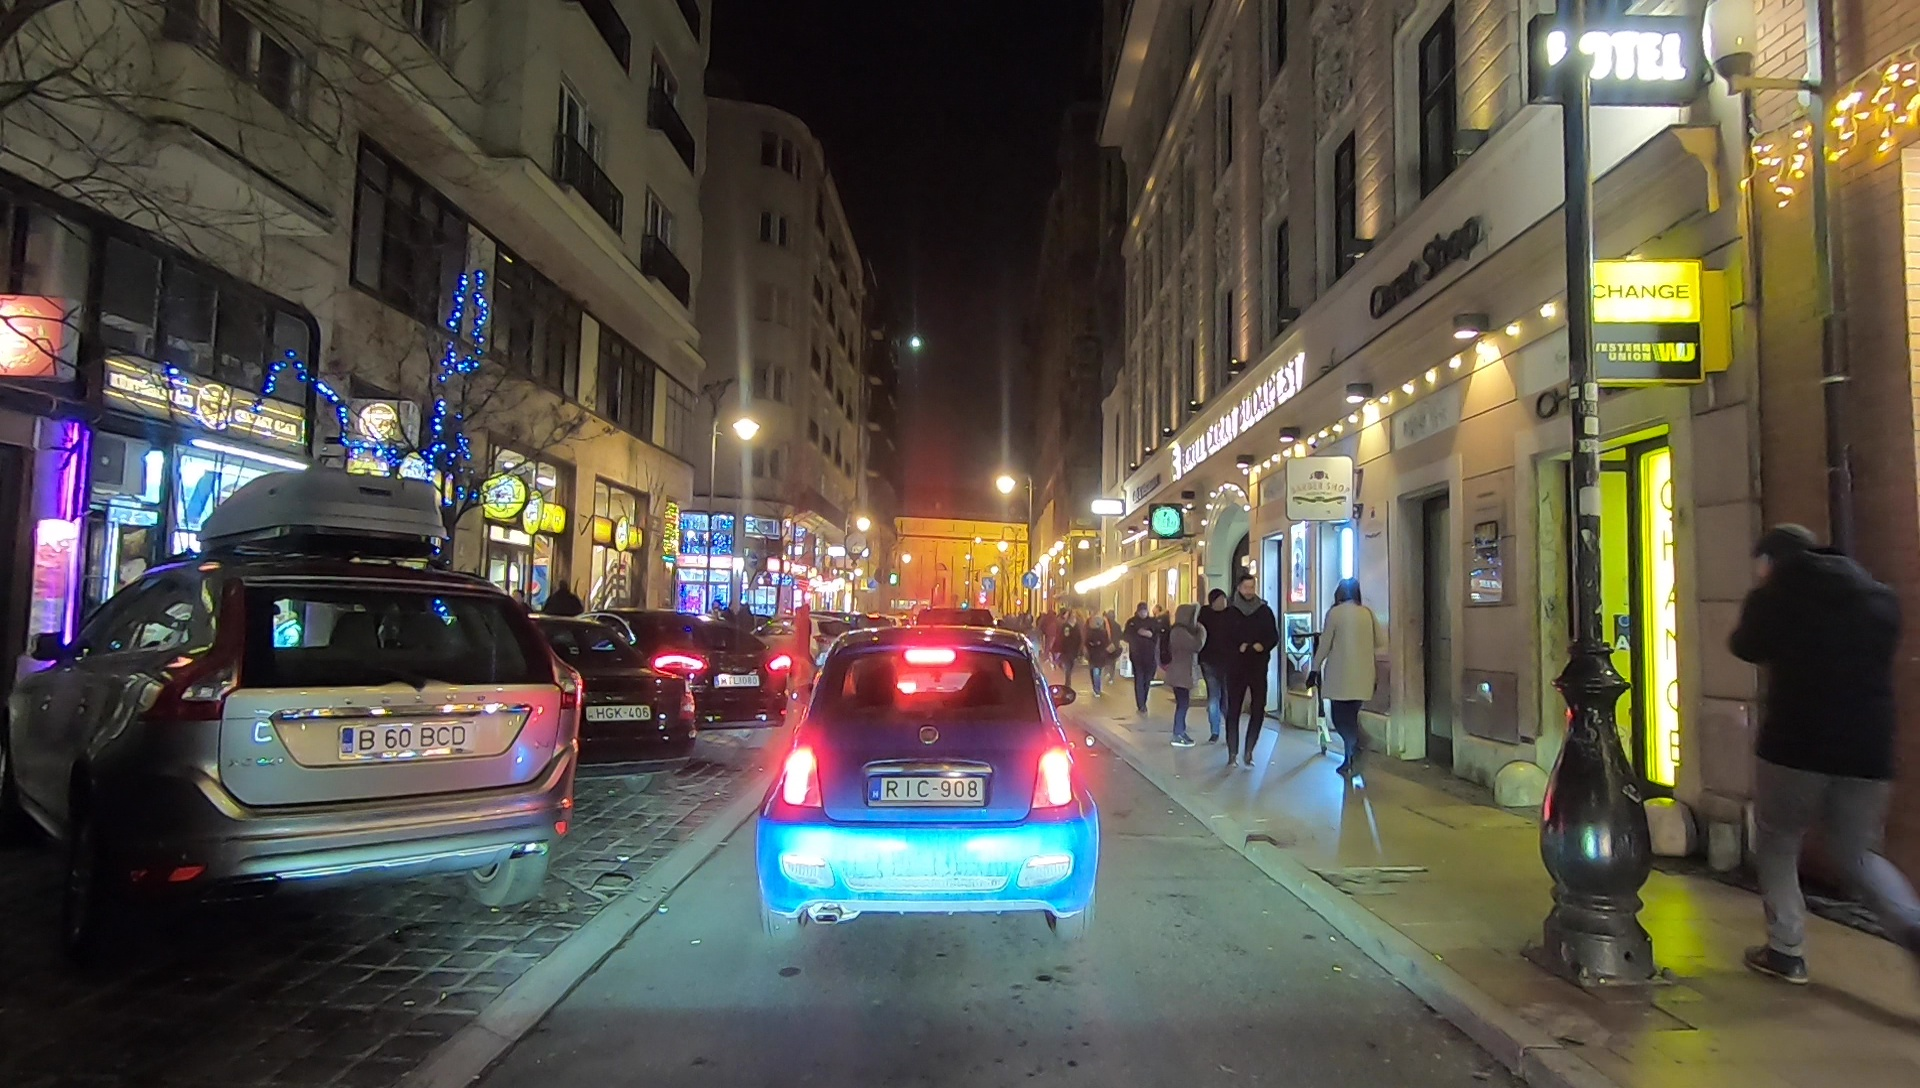person: (1316, 580, 1373, 778), (1227, 577, 1278, 768), (1163, 599, 1202, 753), (1199, 586, 1235, 743), (1128, 600, 1156, 711), (545, 582, 583, 662), (787, 600, 816, 703), (1086, 611, 1106, 695), (1057, 613, 1077, 689), (1102, 606, 1121, 683)
